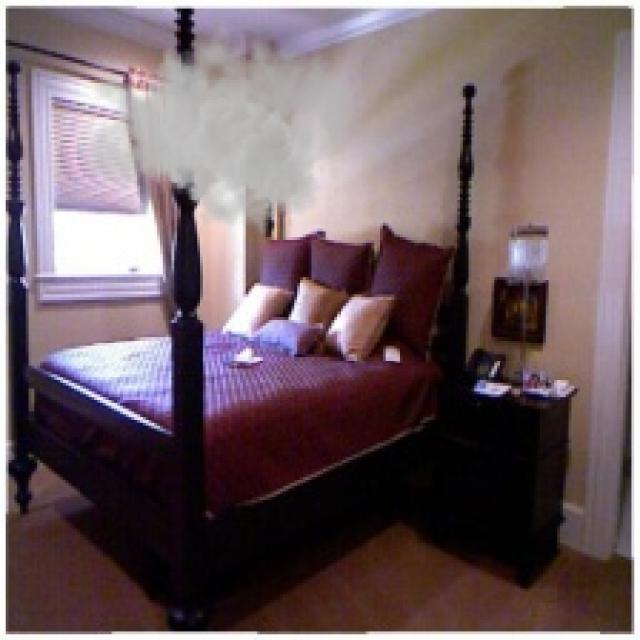smoke: (80, 12, 357, 235)
